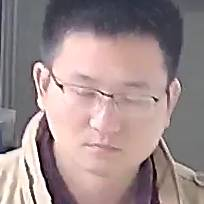gg: (26, 9, 196, 179)
